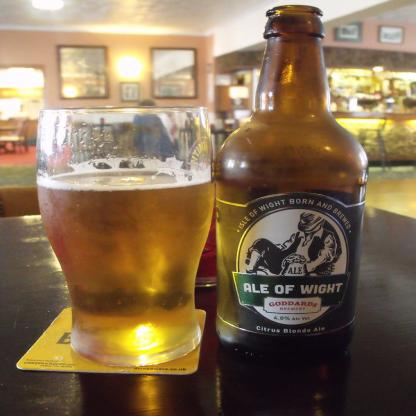drinking: (217, 5, 368, 359), (36, 108, 216, 367)
